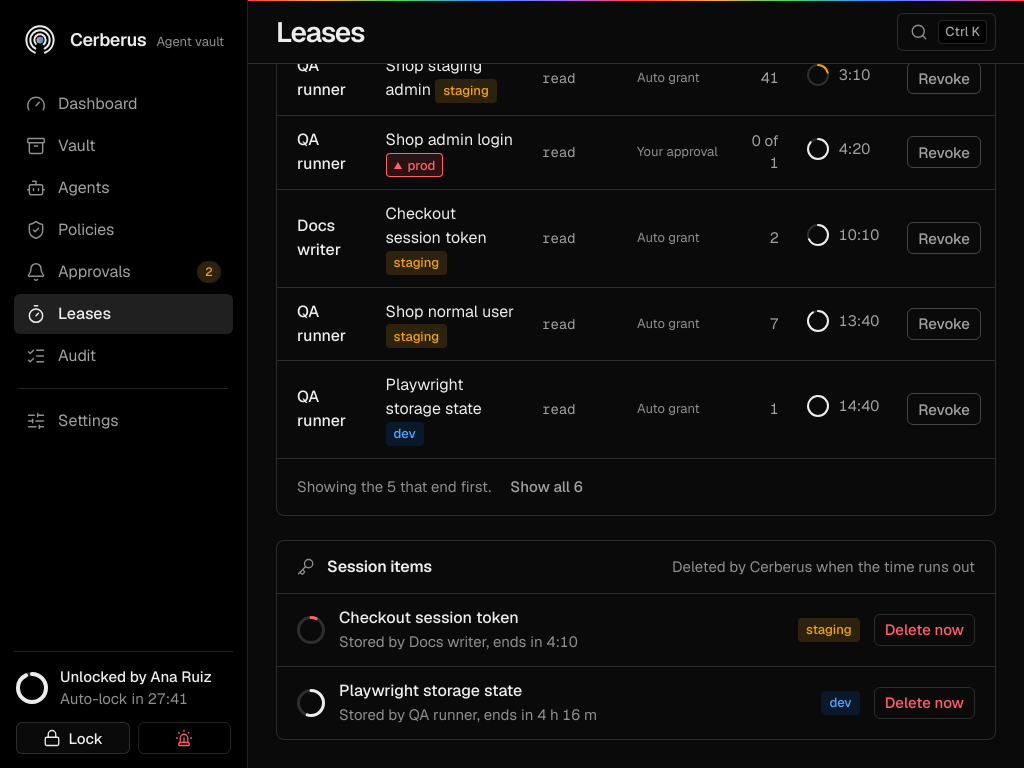
Test: Leases screen › lists leases with agent, item, source and time, and has no axe violations
This screenshot has width=1024, height=768.
(page scrolled)
Expected: the text "QA runner" next to "Shop staging admin" is shown, [297, 55, 346, 100]
Expected: the text "Shop staging admin" is shown, [386, 55, 482, 100]
Click the button "Show all 6": (547, 486) [499, 470, 594, 502]
(page scrolled)
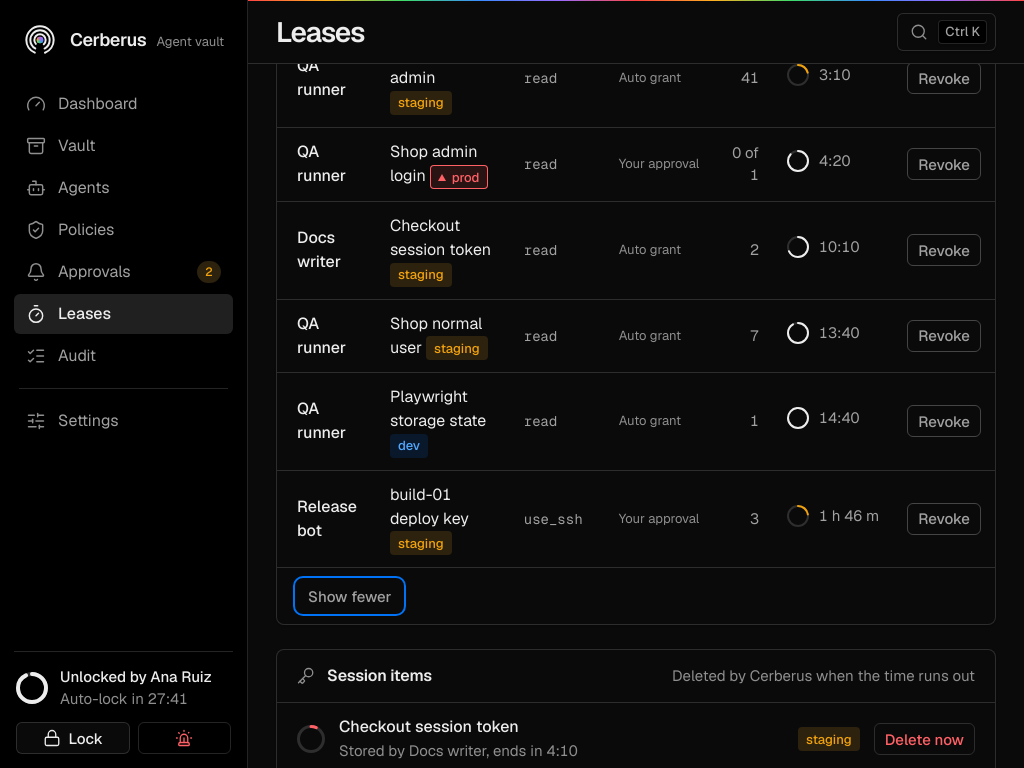
Expected: the number of rows is 7
